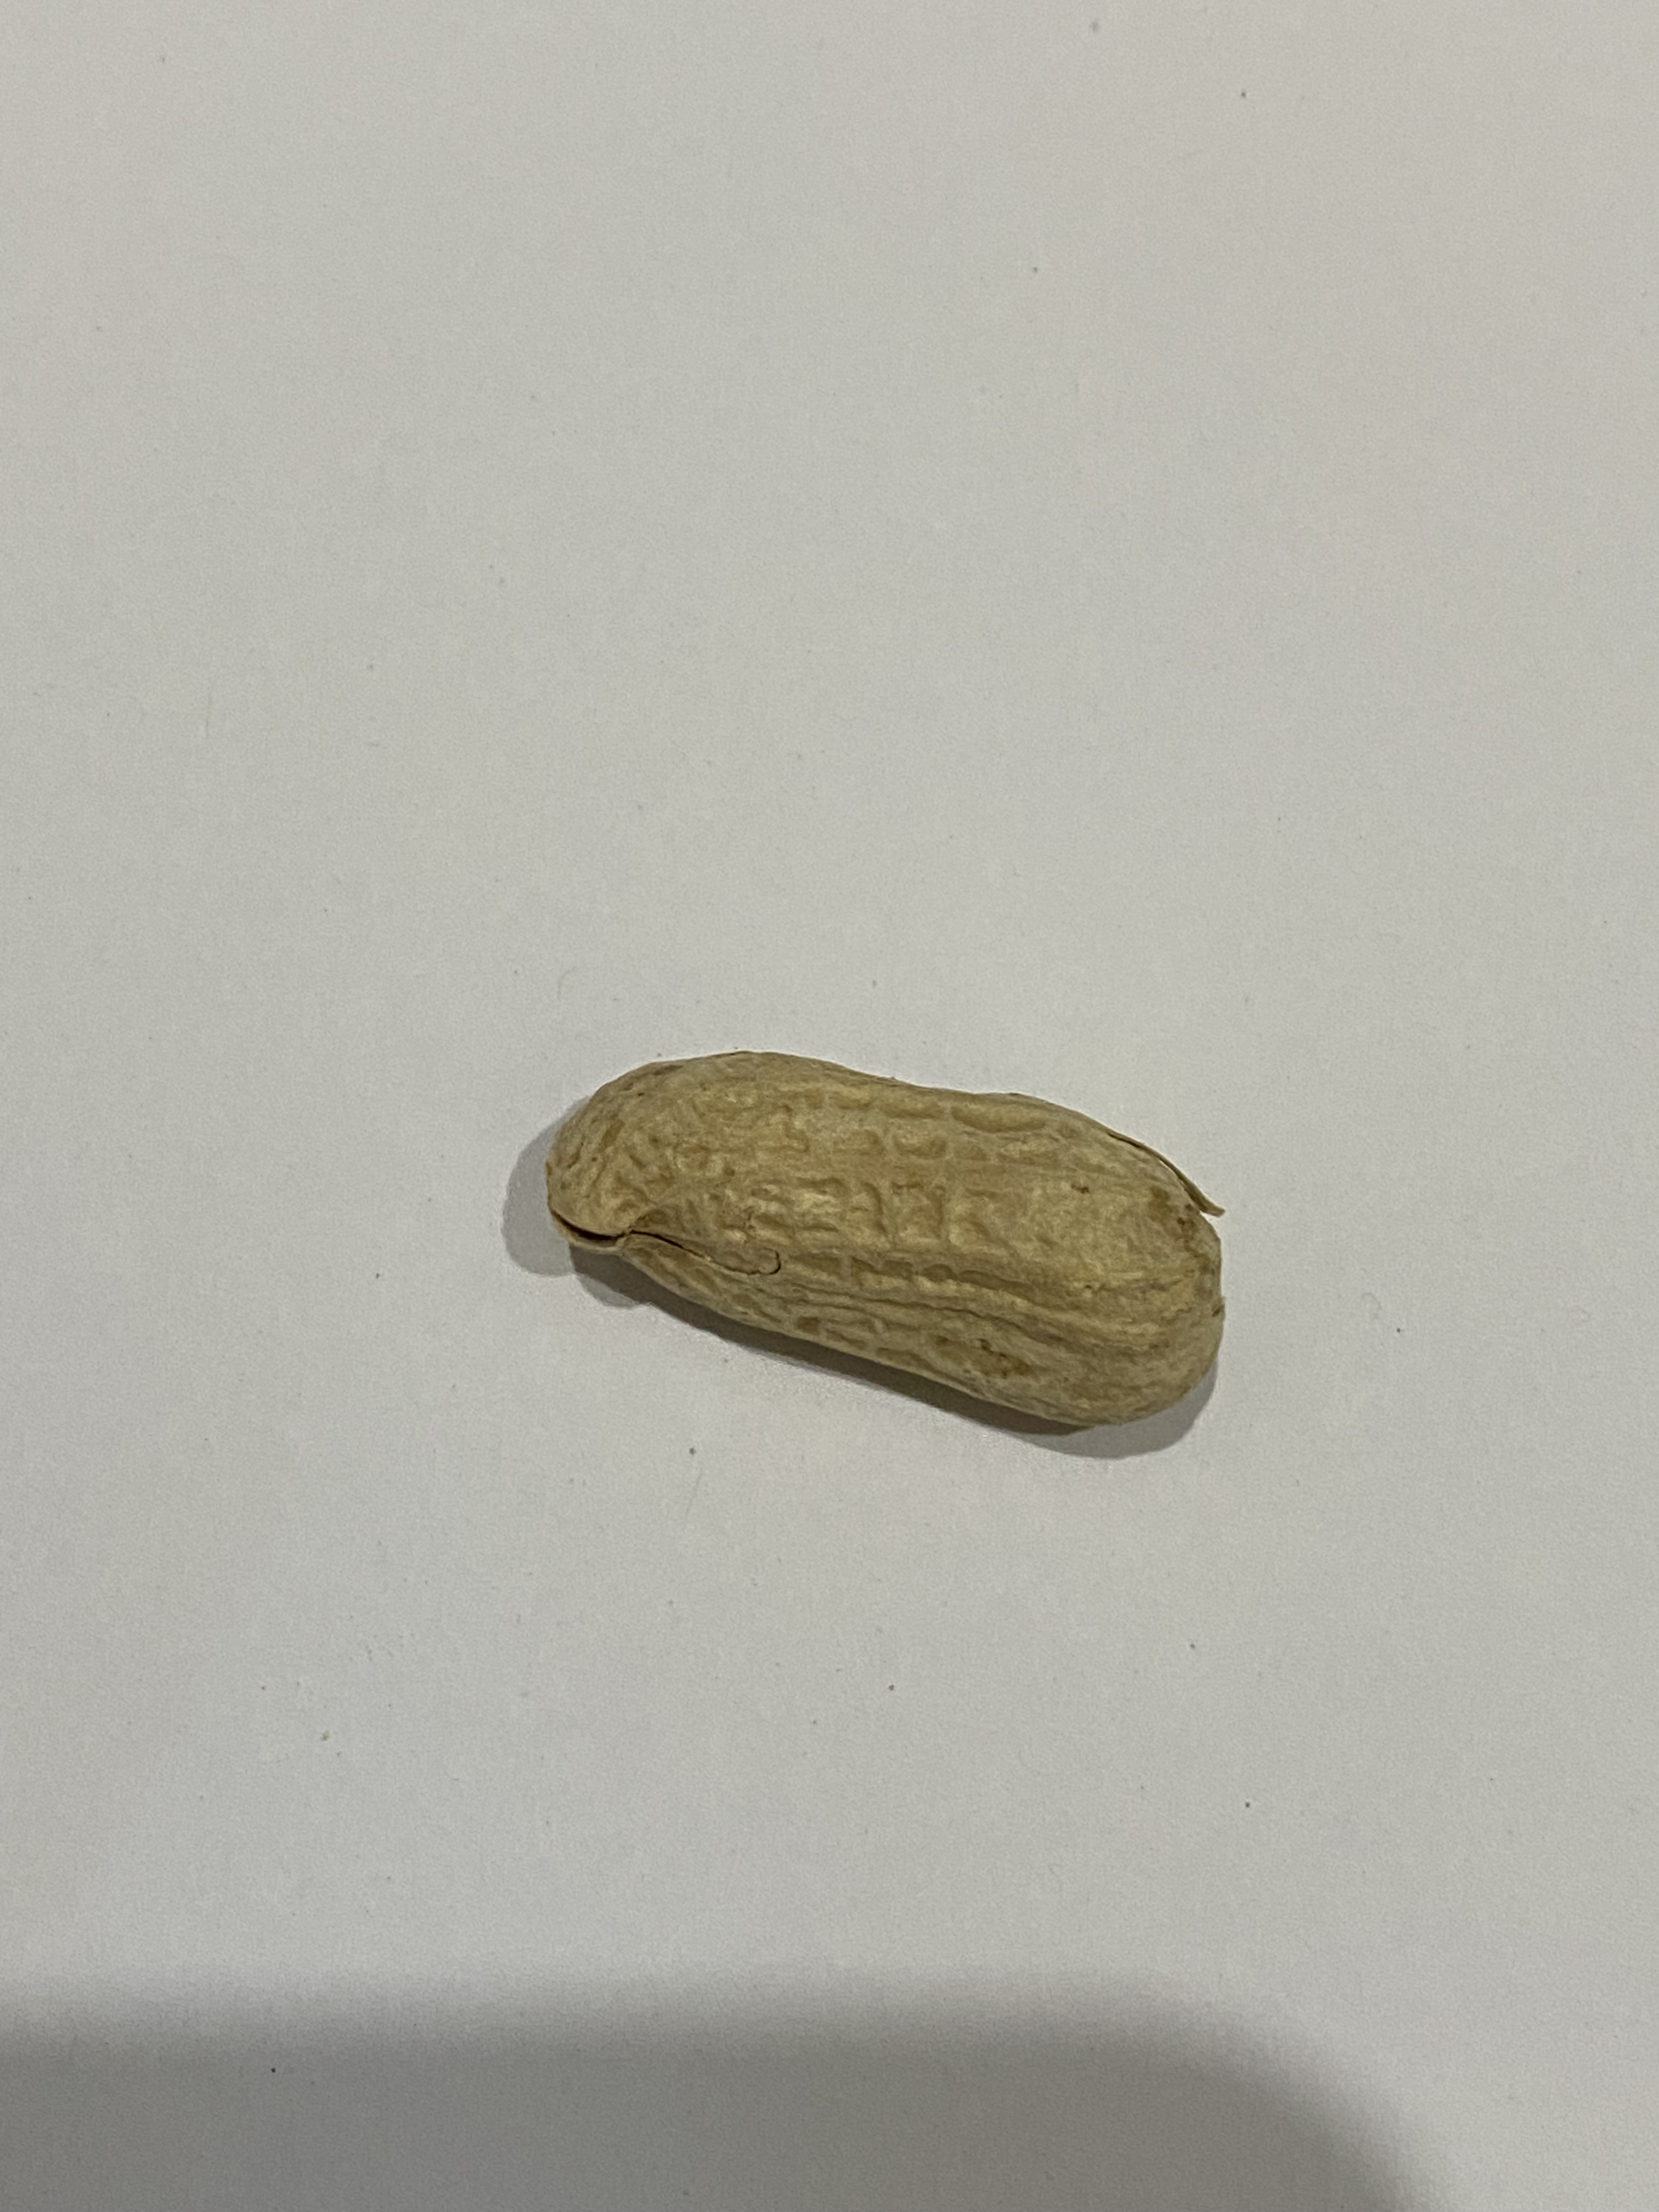kacang2: (481, 1024, 1277, 1432)
